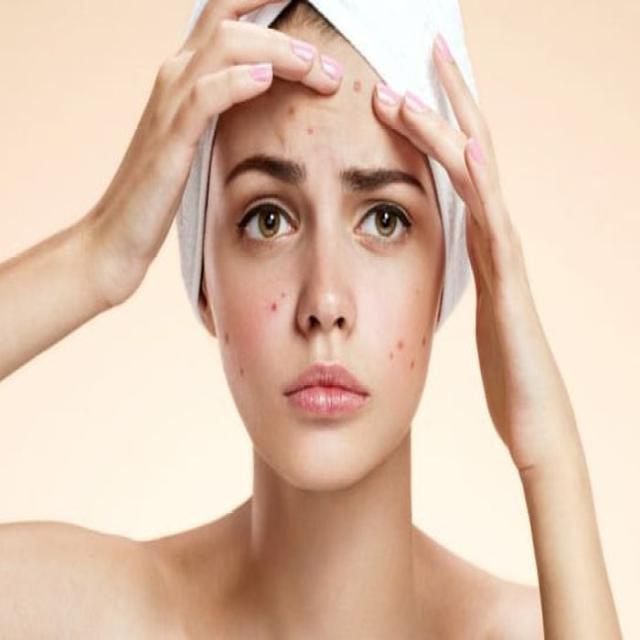Acne: (280, 85, 321, 138), (219, 331, 245, 396), (391, 337, 431, 377), (268, 282, 288, 312), (352, 77, 362, 93)
